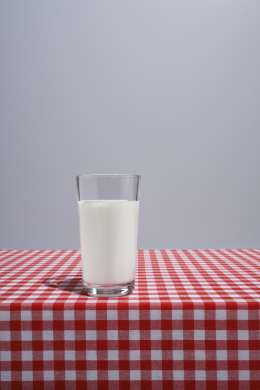glass of milk: (74, 174, 140, 289)
